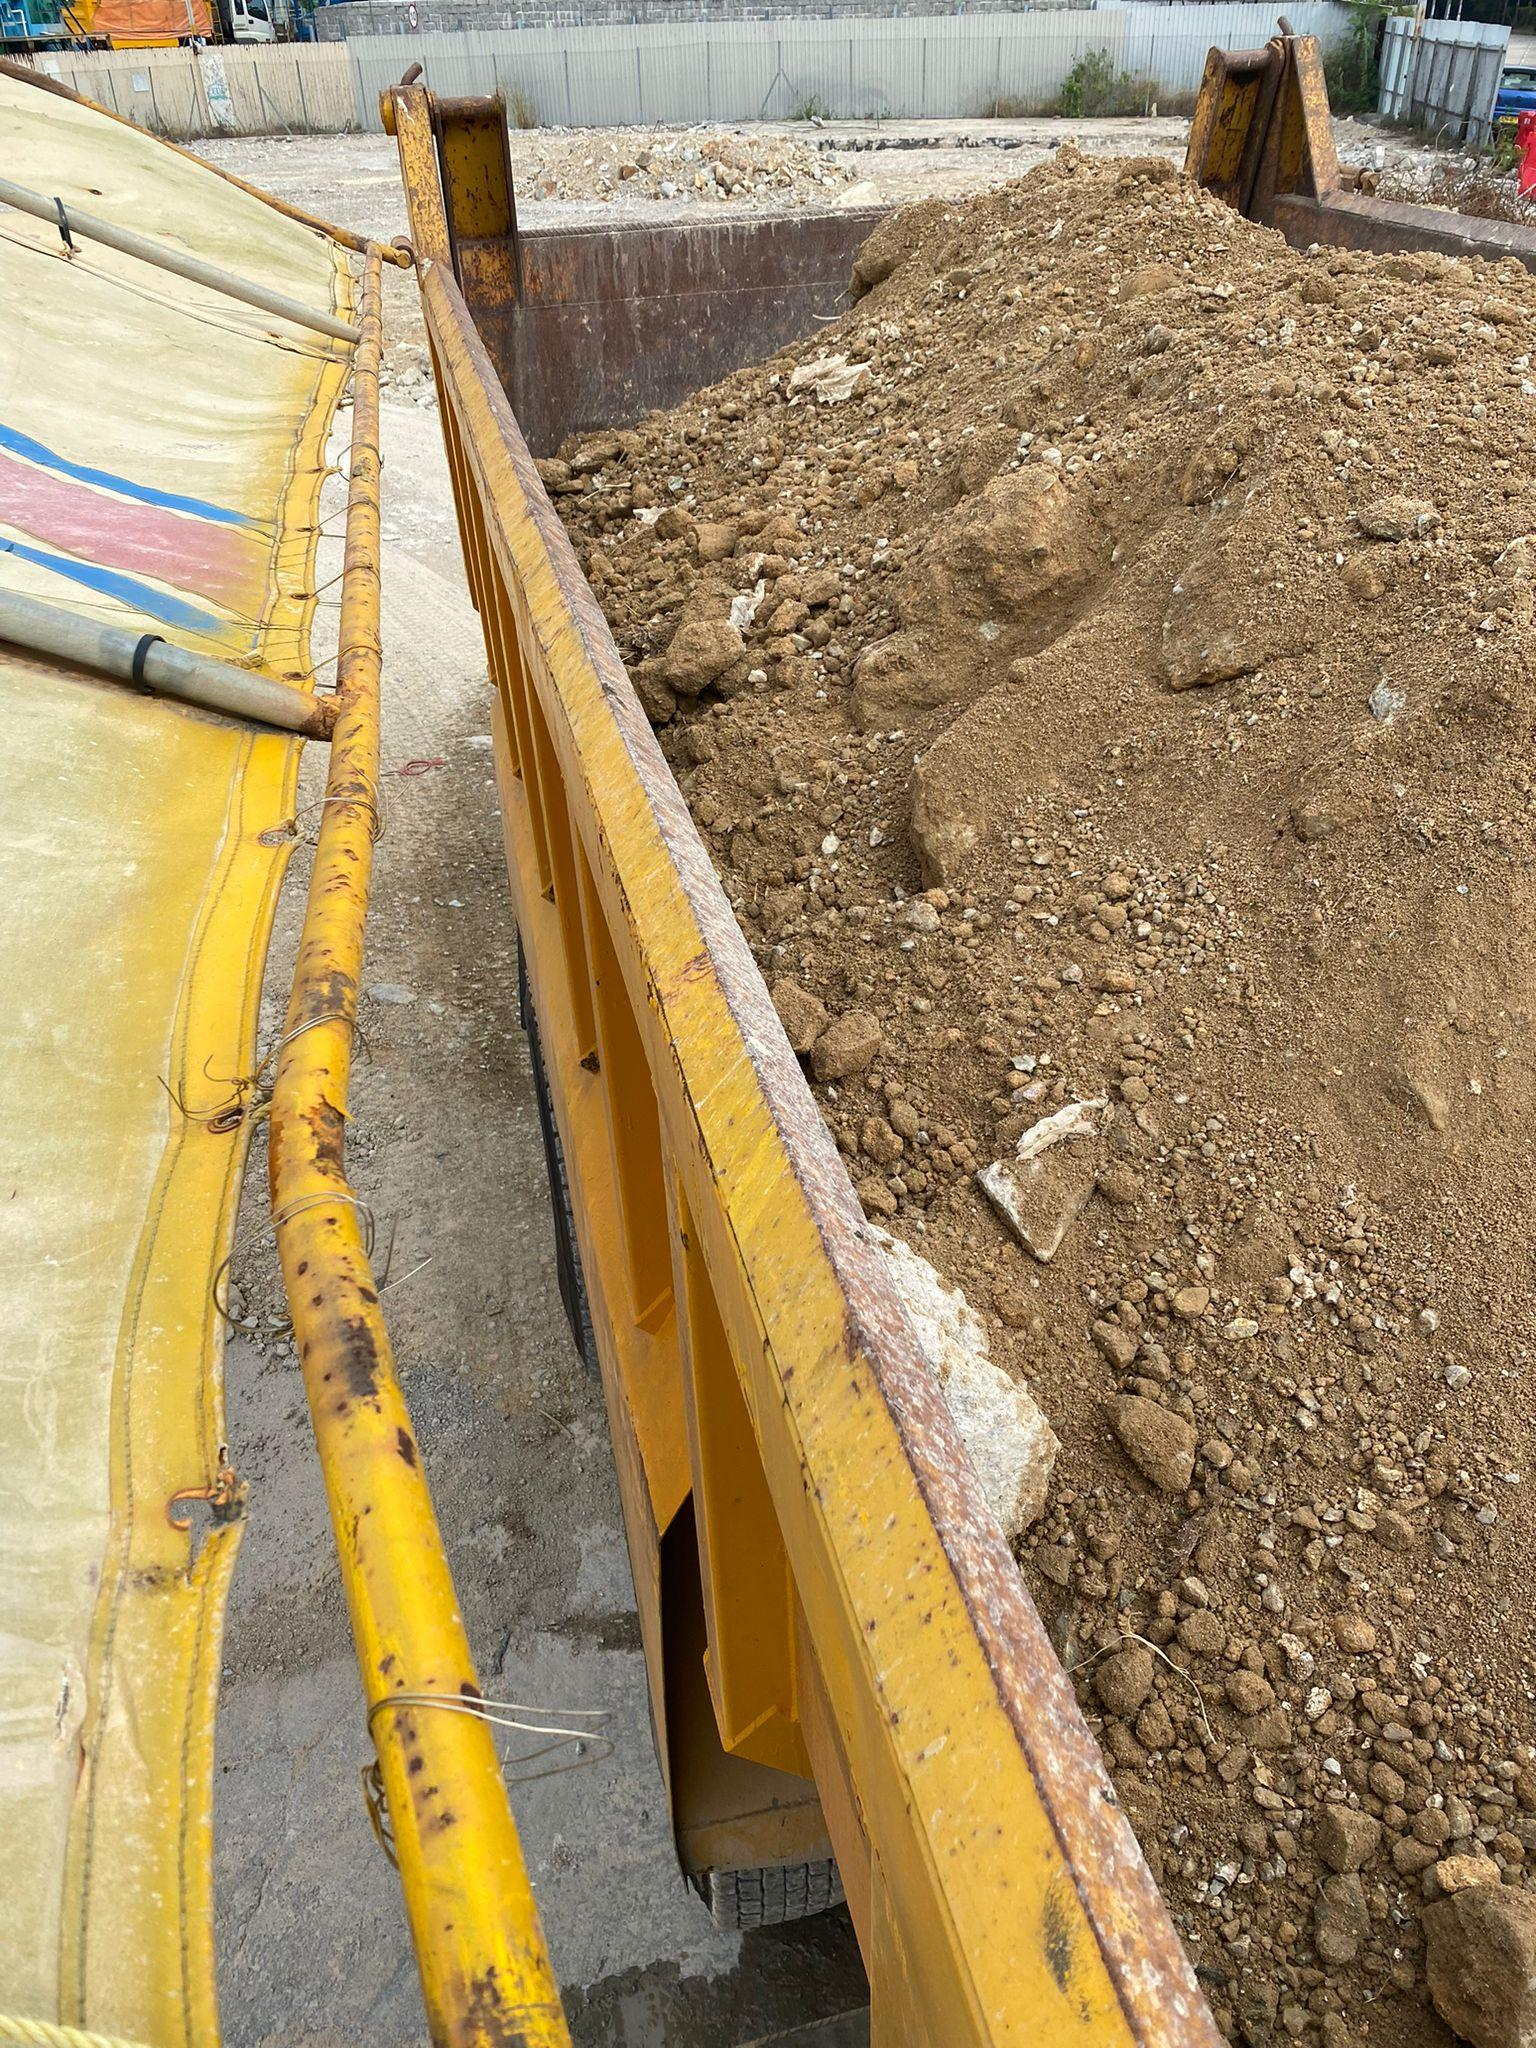stone: (523, 144, 1534, 2042), (1418, 1880, 1533, 2045), (975, 1143, 1096, 1261), (1112, 1392, 1199, 1493), (808, 1009, 883, 1082)
